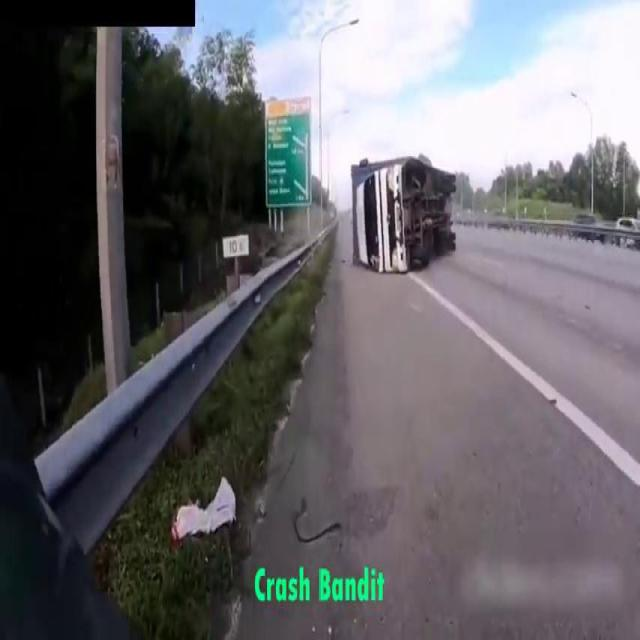severe: (346, 140, 463, 280)
